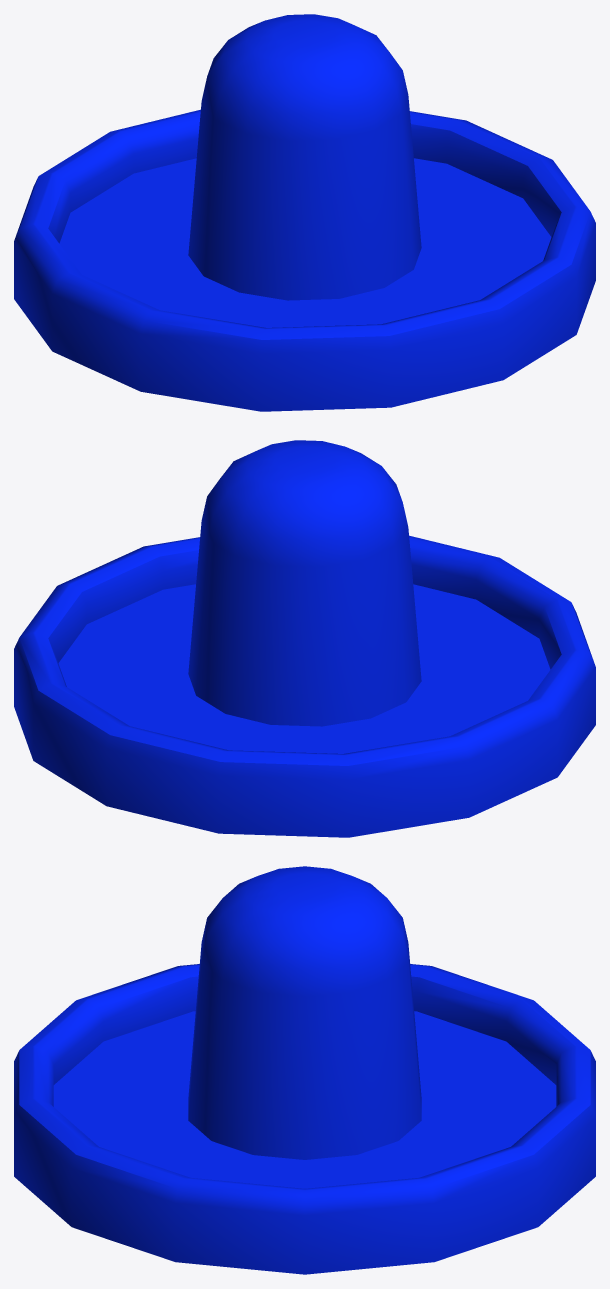
Rendered from Air Hockey Stick_1.fbx.
3 views of the same model, one above another, from view 1: azimuth 30°, elevation 25°; view 2: azimuth 150°, elevation 25°; view 3: azimuth 270°, elevation 25° (orthographic). The views are drawn at different scales.
Visible parts, largest first — view 1: Air Hockey Stick_1; view 2: Air Hockey Stick_1; view 3: Air Hockey Stick_1.
Part boxes in pixels (box(x1,y1,x2,y2)): Air Hockey Stick_1: box(14, 14, 595, 411); Air Hockey Stick_1: box(14, 440, 595, 837); Air Hockey Stick_1: box(14, 866, 595, 1274).
Size of the model in its own units: 0.1205 by 0.0583 by 0.1174.
